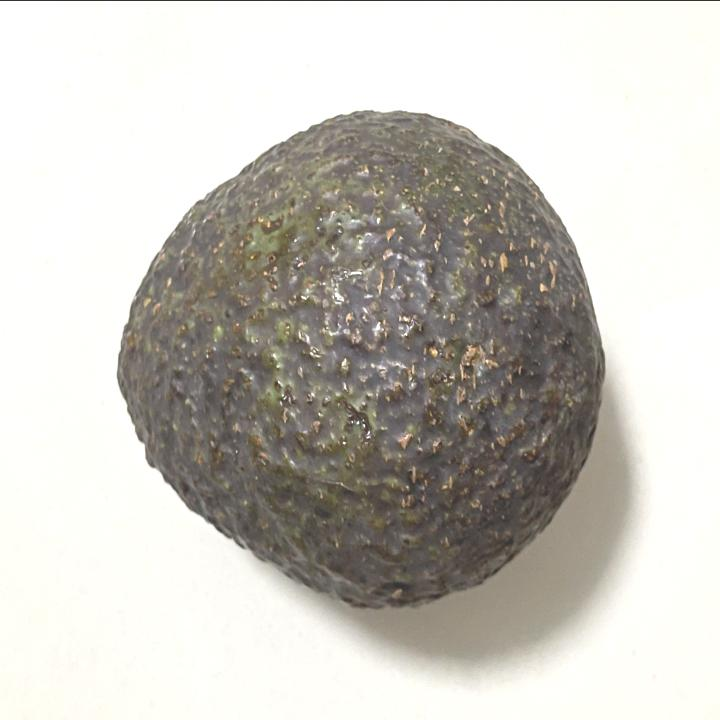Level2: (102, 102, 610, 618)
